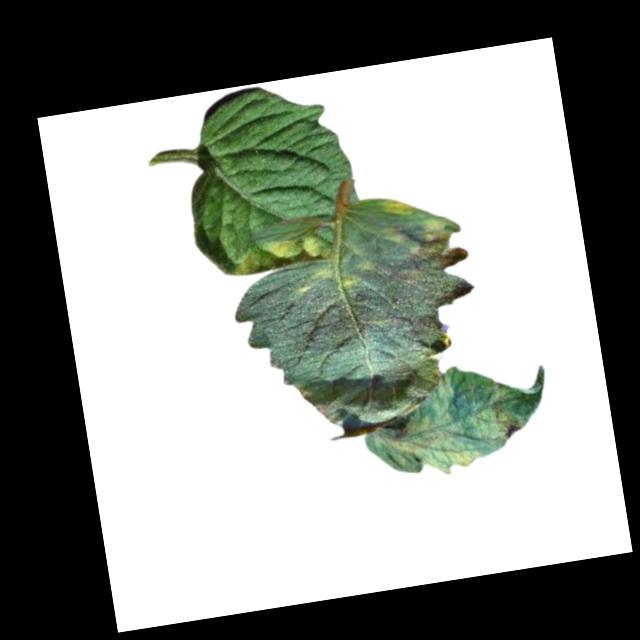Leaf_Mold: (382, 365, 474, 483), (385, 212, 467, 289), (229, 225, 331, 277), (468, 401, 527, 448), (381, 194, 416, 221)
